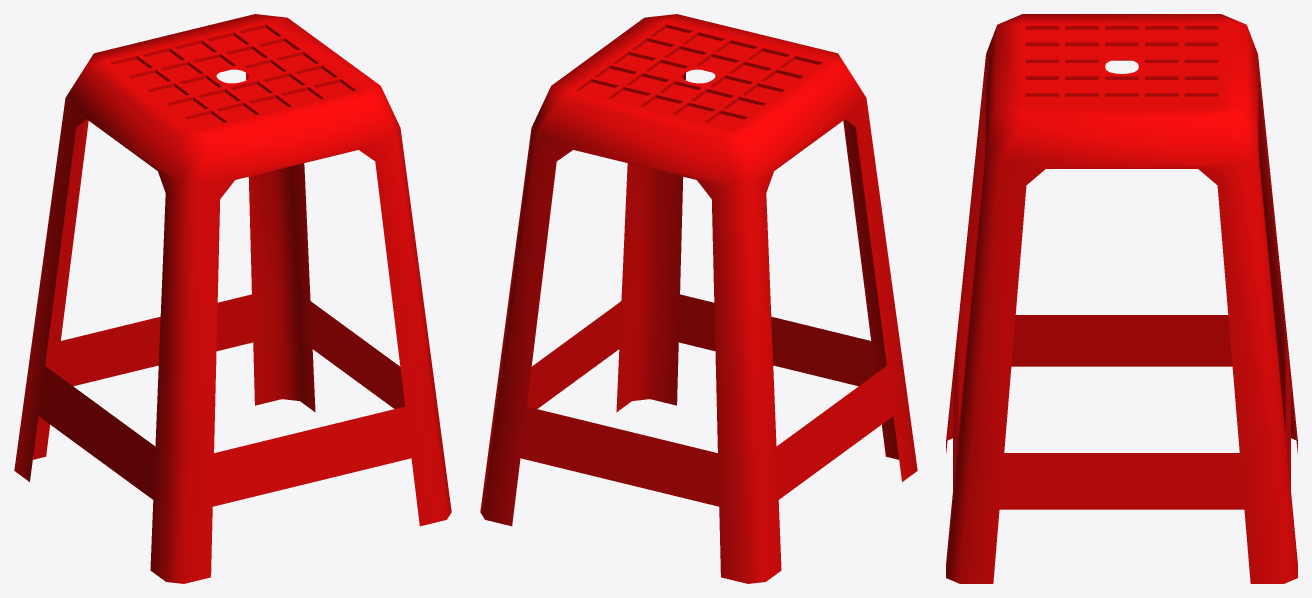
Rendered from plastic-stool-r.glb.
3 views of the same model, side by side, from view 1: azimuth 30°, elevation 25°; view 2: azimuth 150°, elevation 25°; view 3: azimuth 270°, elevation 25° (orthographic). The views are drawn at different scales.
Visible parts, largest first — view 1: Cube; view 2: Cube; view 3: Cube.
Part boxes in pixels (x1,y1,x2,y2): Cube: [14, 14, 451, 583]; Cube: [480, 14, 917, 583]; Cube: [946, 14, 1297, 583].
Bounding box in the file's own units: 0.3451 × 0.4792 × 0.3451.
